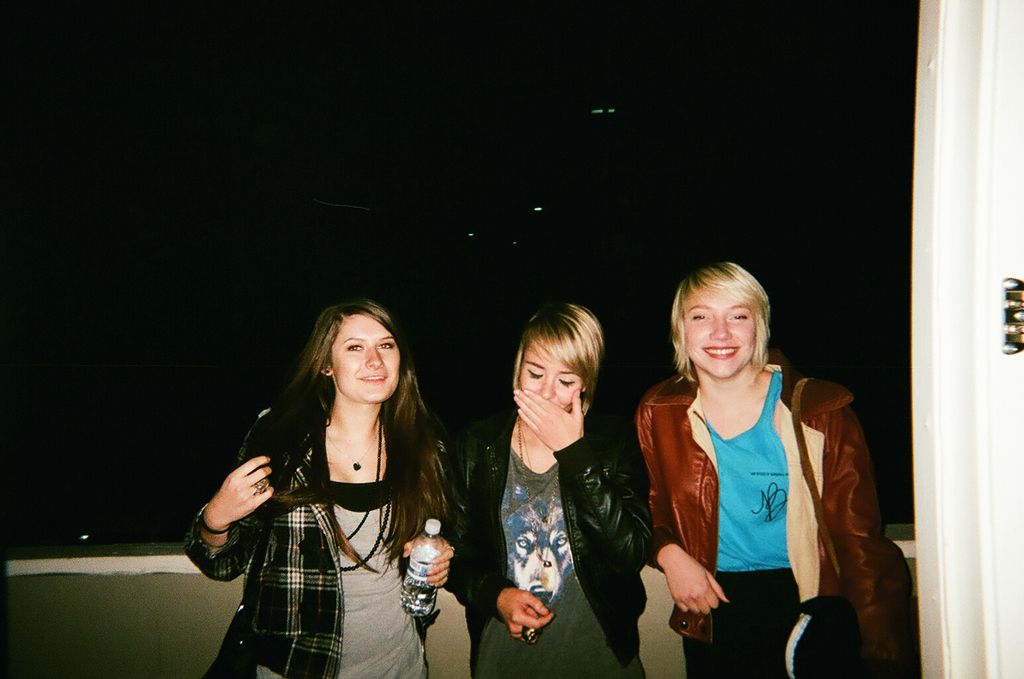Human_hand: (203, 462, 278, 555), (511, 387, 582, 454), (665, 554, 730, 618), (496, 585, 556, 645), (400, 534, 455, 591)
